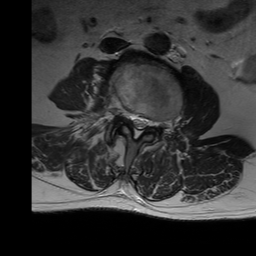CCS_normal: (133, 108, 140, 145)
LFS_stenosis: (149, 113, 157, 133)
LLS_normal: (140, 112, 148, 135)
RFS_normal: (121, 103, 128, 125)
RLS_normal: (128, 107, 136, 131)
